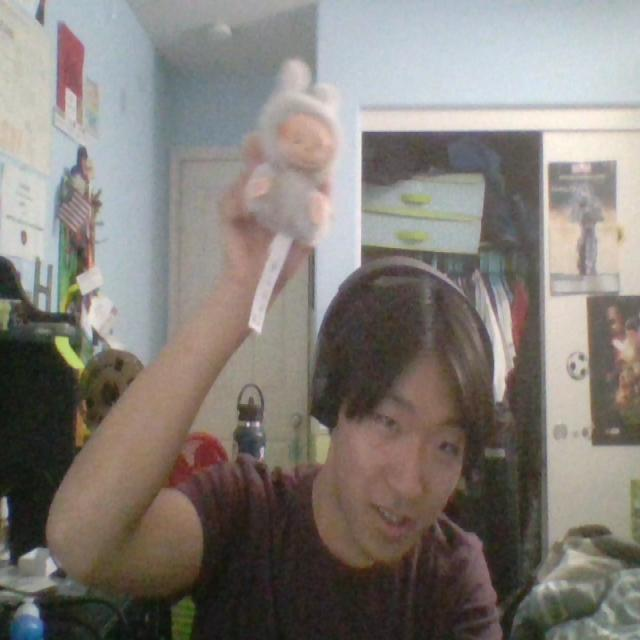labubu: (245, 60, 341, 249)
